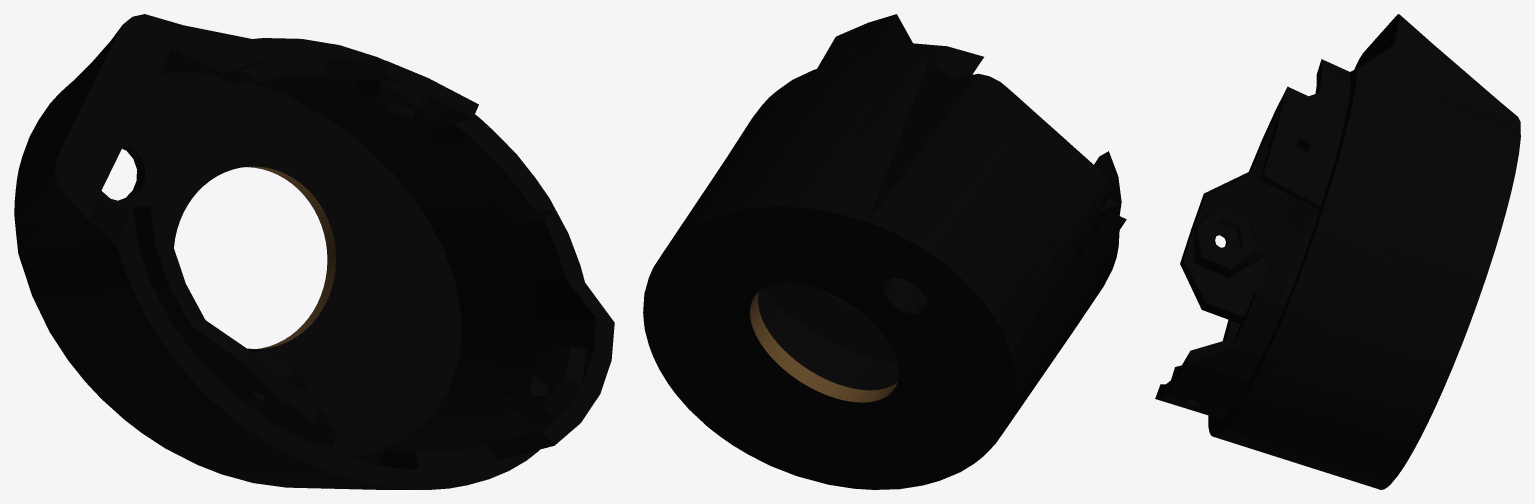
Rendered from left_elbow_x_link_visual_6.obj.
3 renders of one model, left to right at view 1: azimuth 30°, elevation 25°; view 2: azimuth 150°, elevation 25°; view 3: azimuth 270°, elevation 25°, orthographic. The views are drawn at different scales.
Parts seen in each view (by area): view 1: i01.left.bicep.full.007_visual.001; view 2: i01.left.bicep.full.007_visual.001; view 3: i01.left.bicep.full.007_visual.001.
Boxes of the visible parts, box(x1,y1,x2,y2) form: i01.left.bicep.full.007_visual.001: box(14, 14, 614, 489); i01.left.bicep.full.007_visual.001: box(643, 14, 1126, 489); i01.left.bicep.full.007_visual.001: box(1155, 14, 1520, 489).
Size of the model in its own units: 0.5995 by 0.6186 by 0.5338.
